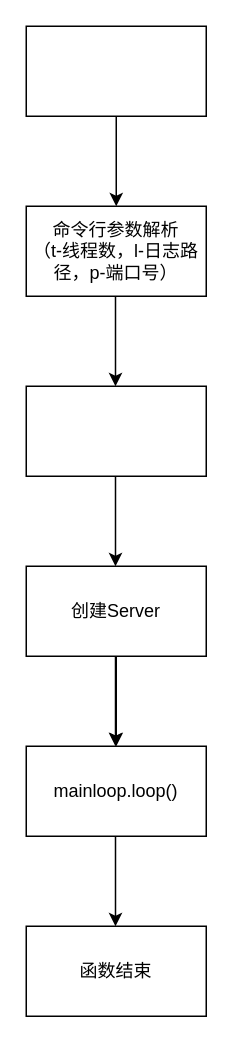
The diagram is 233 pixels wide and 1043 high, and some of its shapes have lost their labels. Here are the shapes that lost their labels. From the top down, the centre of each, then its label:
pixel 115 70: main函数入口
pixel 115 430: 创建EventLoop
